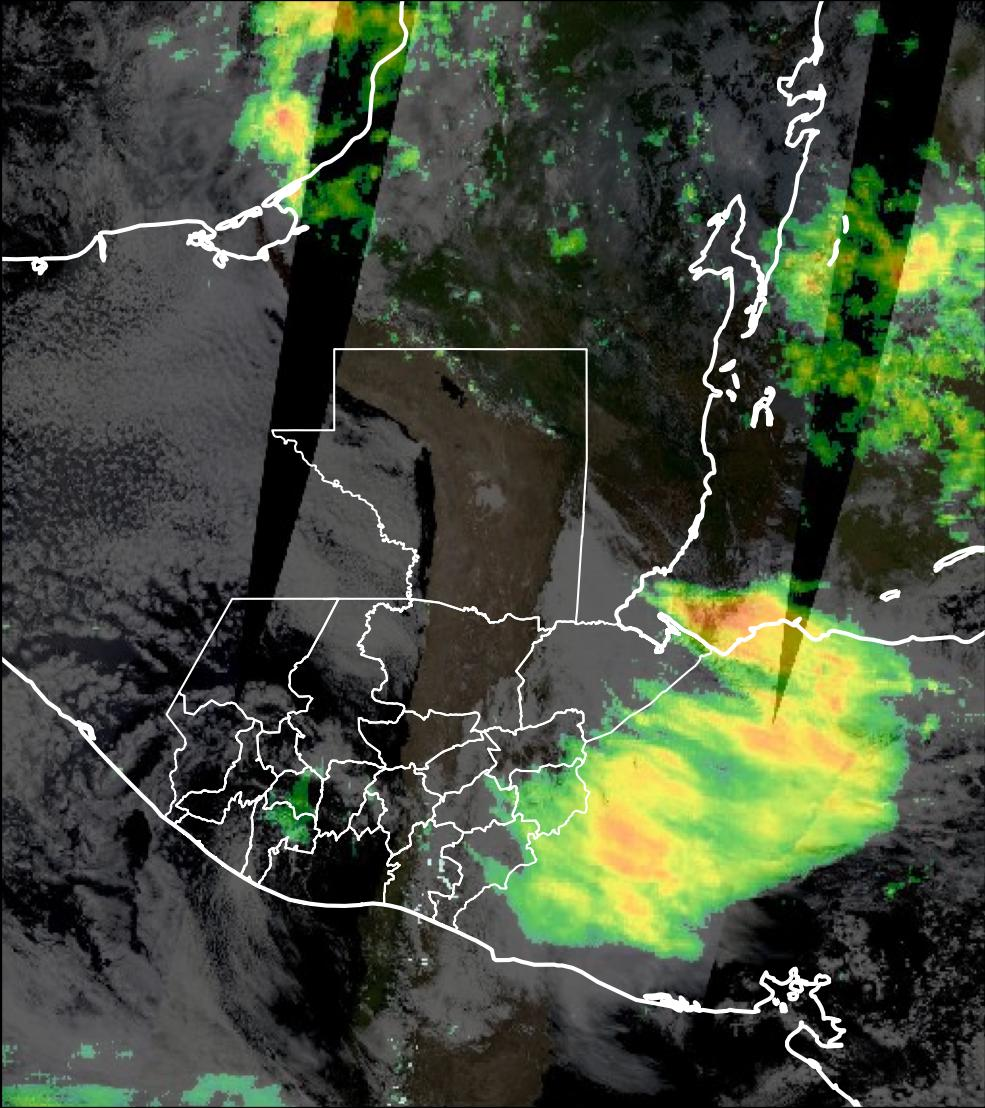precipitacion: (671, 582, 826, 677)
